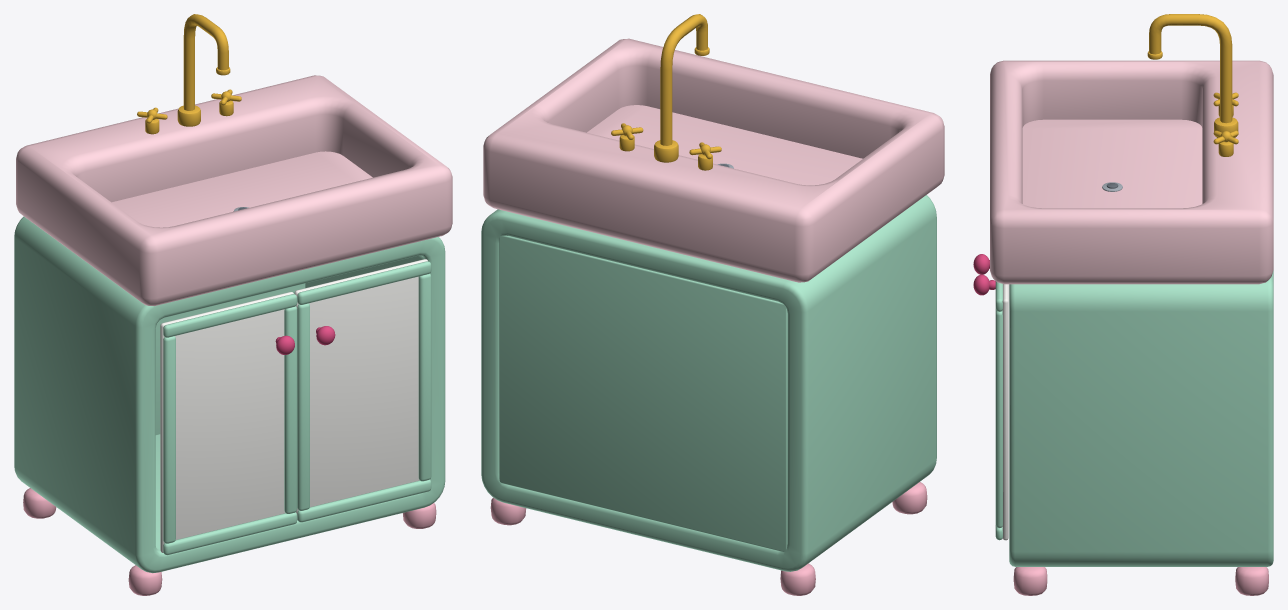
File: armario_cozinha_pia_campestre_menta.glb
3 views of the same model, side by side, from view 1: azimuth 30°, elevation 25°; view 2: azimuth 150°, elevation 25°; view 3: azimuth 270°, elevation 25° (orthographic). The views are drawn at different scales.
Visible parts, largest first — view 1: armario_cozinha_pia_campestre_menta, porta_1, porta_2; view 2: armario_cozinha_pia_campestre_menta; view 3: armario_cozinha_pia_campestre_menta, porta_2.
Part boxes in pixels (x1=…): armario_cozinha_pia_campestre_menta: x1=14, y1=14, x2=452, y2=595; porta_1: x1=160, y1=292, x2=297, y2=555; porta_2: x1=294, y1=259, x2=431, y2=522; armario_cozinha_pia_campestre_menta: x1=481, y1=14, x2=944, y2=595; armario_cozinha_pia_campestre_menta: x1=990, y1=14, x2=1273, y2=595; porta_2: x1=973, y1=274, x2=1008, y2=540.
Size of the model in its own units: 0.798 by 1.18 by 0.6336.
1 material, 1 textured.
